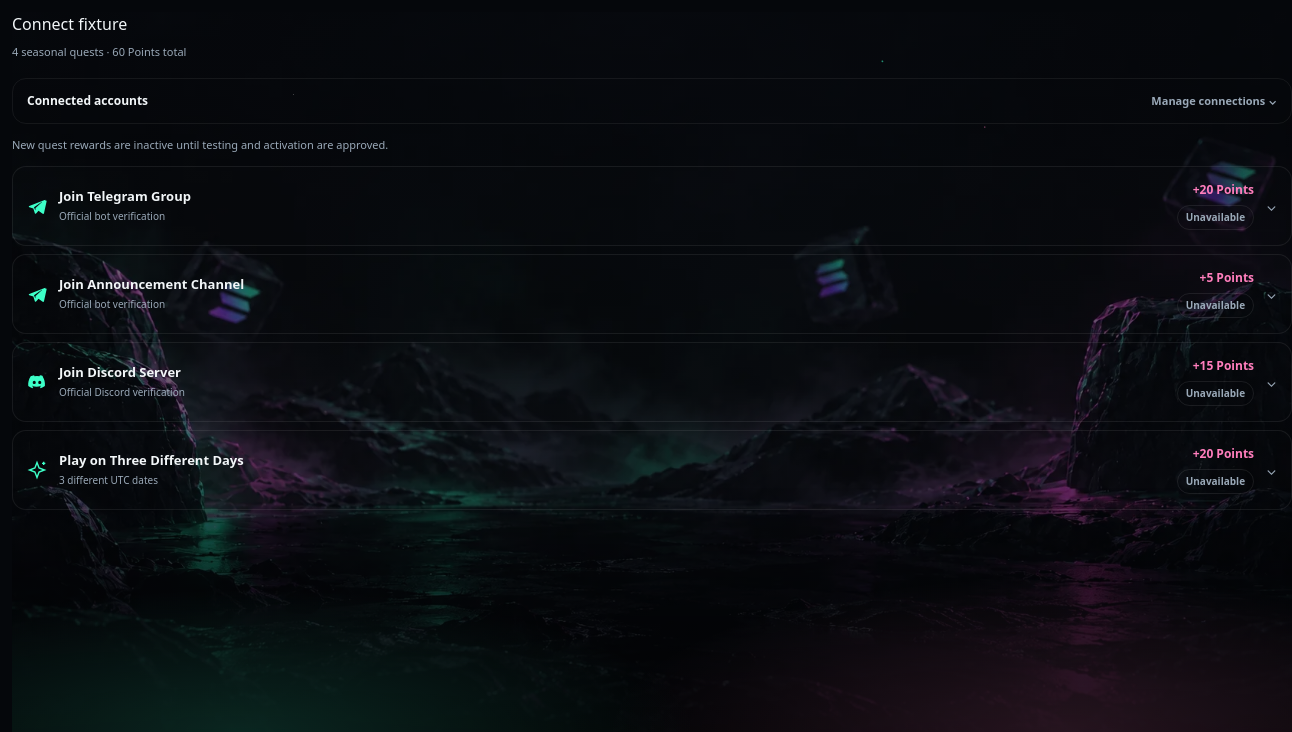
Test: public quest cards preserve all four approved values and never request private data while disconnected
Expected: the text "+20 Points" in the row of "Join Telegram Group" is shown, 1177,181 -> 1254,230
Expected: the text "+20 Points" in the row of "Play on Three Different Days" is shown, 1177,445 -> 1254,494
Click the text "Play on Three Different Days".
click(151, 460)  # box 59,451 -> 244,469
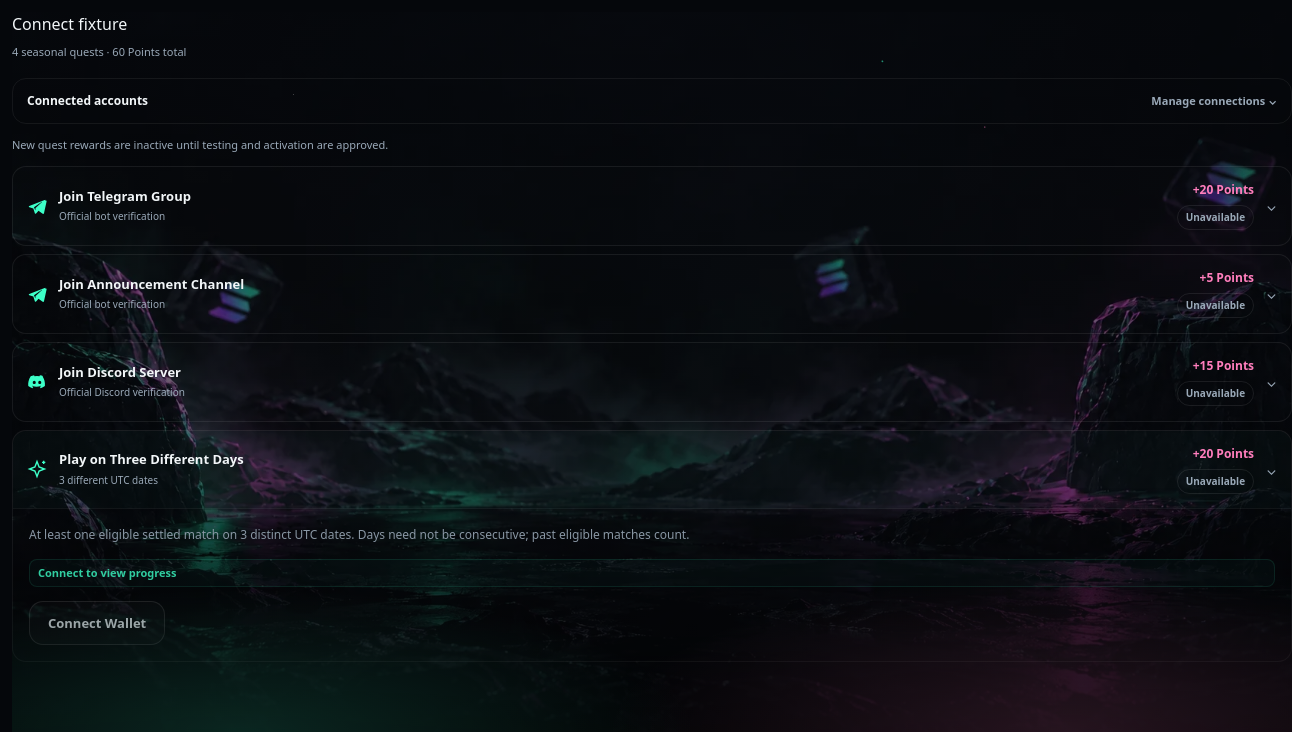
Result: the text "Connect to view progress" is shown at 38,565 -> 176,580
